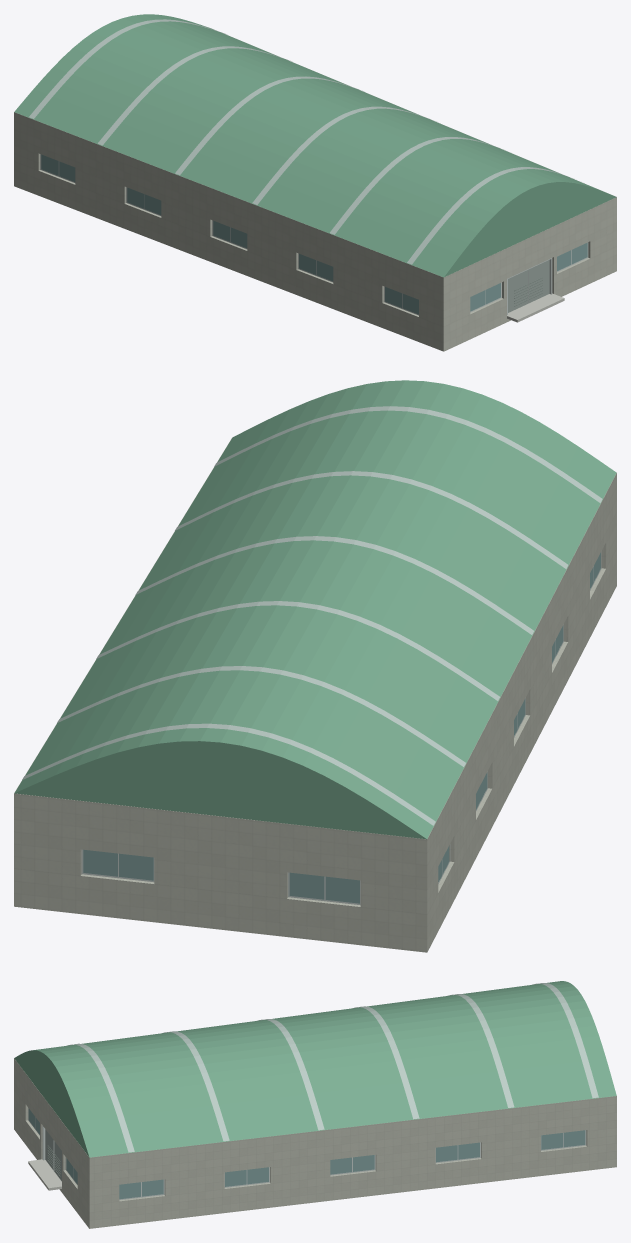
3 views of the same model, one above another, from view 1: azimuth 30°, elevation 25°; view 2: azimuth 150°, elevation 25°; view 3: azimuth 270°, elevation 25° (orthographic). The views are drawn at different scales.
Visible parts, largest first — view 1: westbarrel__roof, westbarrel__wall, westbarrel__rib, westbarrel__glass, westbarrel__door, westbarrel__frame, westbarrel__threshold-entry; view 2: westbarrel__roof, westbarrel__wall, westbarrel__rib, westbarrel__glass, westbarrel__frame; view 3: westbarrel__roof, westbarrel__wall, westbarrel__rib, westbarrel__glass, westbarrel__frame, westbarrel__threshold-entry, westbarrel__door.
Boxes of the visible parts, box(x1,y1,x2,y2) form: westbarrel__roof: box(14, 14, 616, 277); westbarrel__wall: box(14, 44, 616, 351); westbarrel__rib: box(29, 19, 573, 264); westbarrel__glass: box(41, 154, 587, 314); westbarrel__door: box(508, 260, 549, 312); westbarrel__frame: box(40, 154, 588, 315); westbarrel__threshold-entry: box(507, 293, 564, 322); westbarrel__roof: box(14, 380, 616, 839); westbarrel__wall: box(14, 437, 616, 952); westbarrel__rib: box(22, 406, 602, 825); westbarrel__glass: box(83, 552, 600, 903); westbarrel__frame: box(81, 551, 601, 905); westbarrel__roof: box(14, 981, 616, 1157); westbarrel__wall: box(14, 1058, 616, 1228); westbarrel__rib: box(67, 983, 598, 1152); westbarrel__glass: box(28, 1108, 585, 1199); westbarrel__frame: box(28, 1107, 586, 1200); westbarrel__threshold-entry: box(28, 1159, 61, 1190); westbarrel__door: box(45, 1129, 61, 1181).
Size of the model in its own units: 23.73 by 7.64 by 35.31.
Materials: 8 (1 with a texture image).
